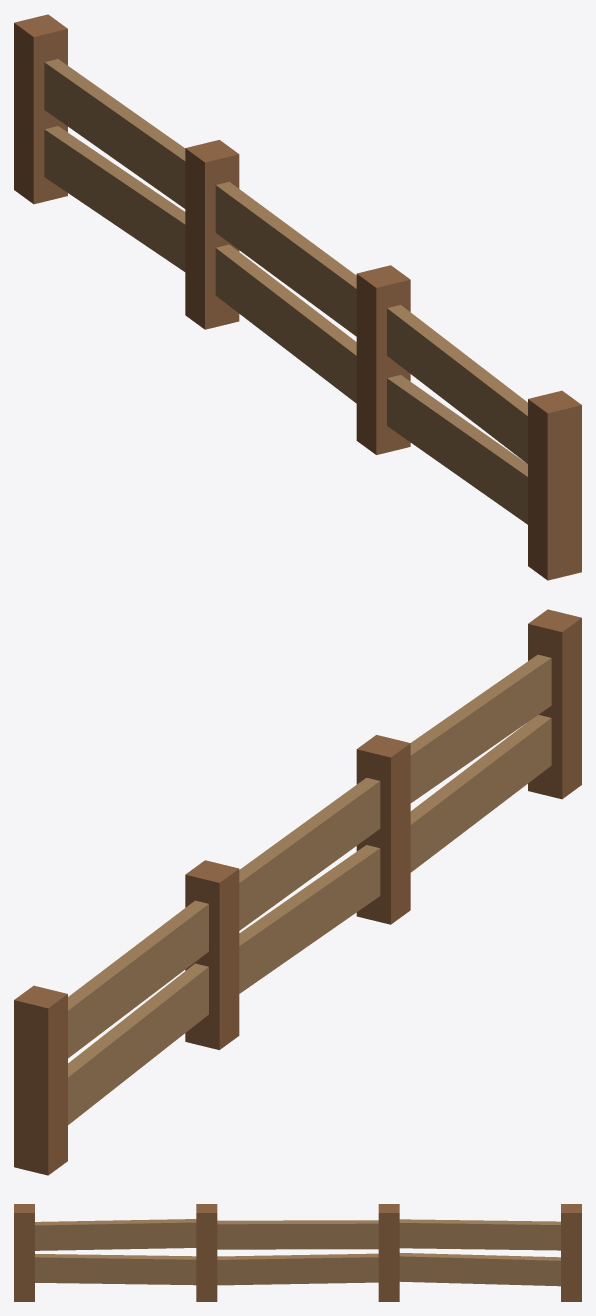
The model's file is Fence_05.fbx.
3 renders of one model, top to bottom at view 1: azimuth 30°, elevation 25°; view 2: azimuth 150°, elevation 25°; view 3: azimuth 270°, elevation 25°, orthographic. The views are drawn at different scales.
Parts seen in each view (by area): view 1: Fence_05; view 2: Fence_05; view 3: Fence_05.
Part boxes in pixels (x1=…): Fence_05: x1=14, y1=14, x2=581, y2=580; Fence_05: x1=14, y1=609, x2=581, y2=1175; Fence_05: x1=14, y1=1204, x2=581, y2=1301.
Bounding box in the file's own units: 0.75 × 3.5 × 20.25.
